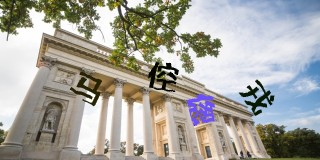倥: (148, 61, 179, 95)
偬: (185, 93, 216, 127)
戎: (238, 78, 275, 117)
马: (69, 71, 103, 108)
